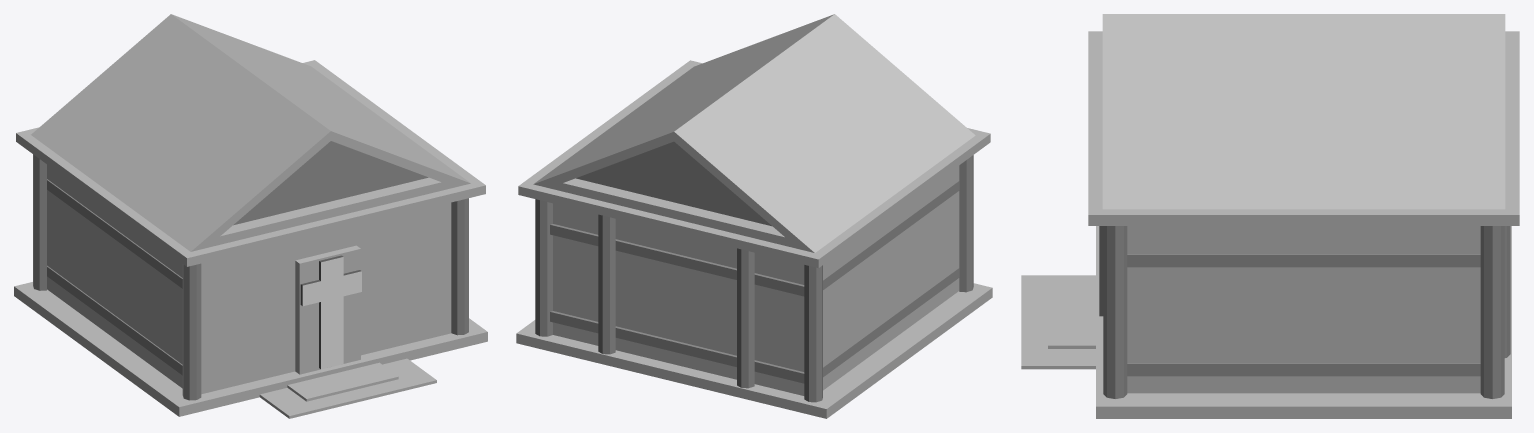
The model's file is crypt_02.fbx.
The picture shows the model from 3 angles, left to right: view 1: azimuth 30°, elevation 25°; view 2: azimuth 150°, elevation 25°; view 3: azimuth 270°, elevation 25°; orthographic projection. The views are drawn at different scales.
Parts seen in each view (by area): view 1: crypt_02; view 2: crypt_02; view 3: crypt_02.
Part boxes in pixels (x1,y1,x2,y2): crypt_02: (14, 14, 487, 418); crypt_02: (516, 14, 992, 418); crypt_02: (1021, 14, 1519, 418).
Size of the model in its own units: 7.46 by 5.69 by 8.27.
